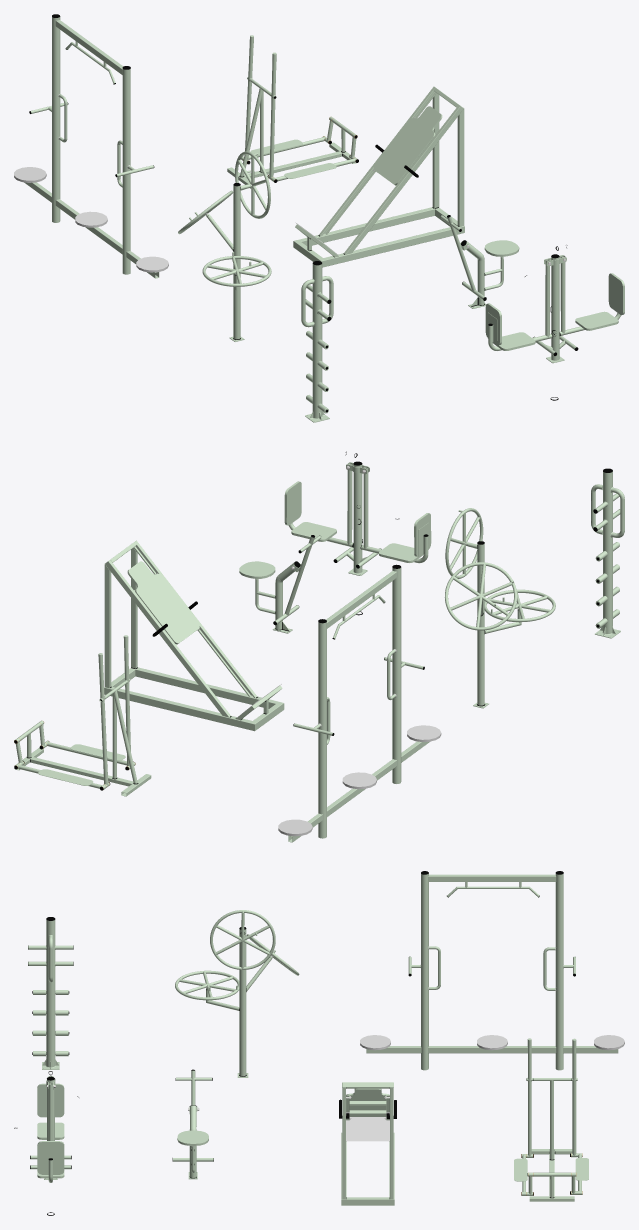
Rendered from CALISTENIA.glb.
3 views of the same model, one above another, from view 1: azimuth 30°, elevation 25°; view 2: azimuth 150°, elevation 25°; view 3: azimuth 270°, elevation 25° (orthographic). The views are drawn at different scales.
Visible parts, largest first — view 1: CALISTENIA; view 2: CALISTENIA; view 3: CALISTENIA.
Part boxes in pixels (left/top/right/bottom): CALISTENIA: left=14, top=14, right=624, bottom=422; CALISTENIA: left=14, top=451, right=624, bottom=842; CALISTENIA: left=14, top=871, right=624, bottom=1215.
Size of the model in its own units: 4.08 by 2.86 by 6.79.
